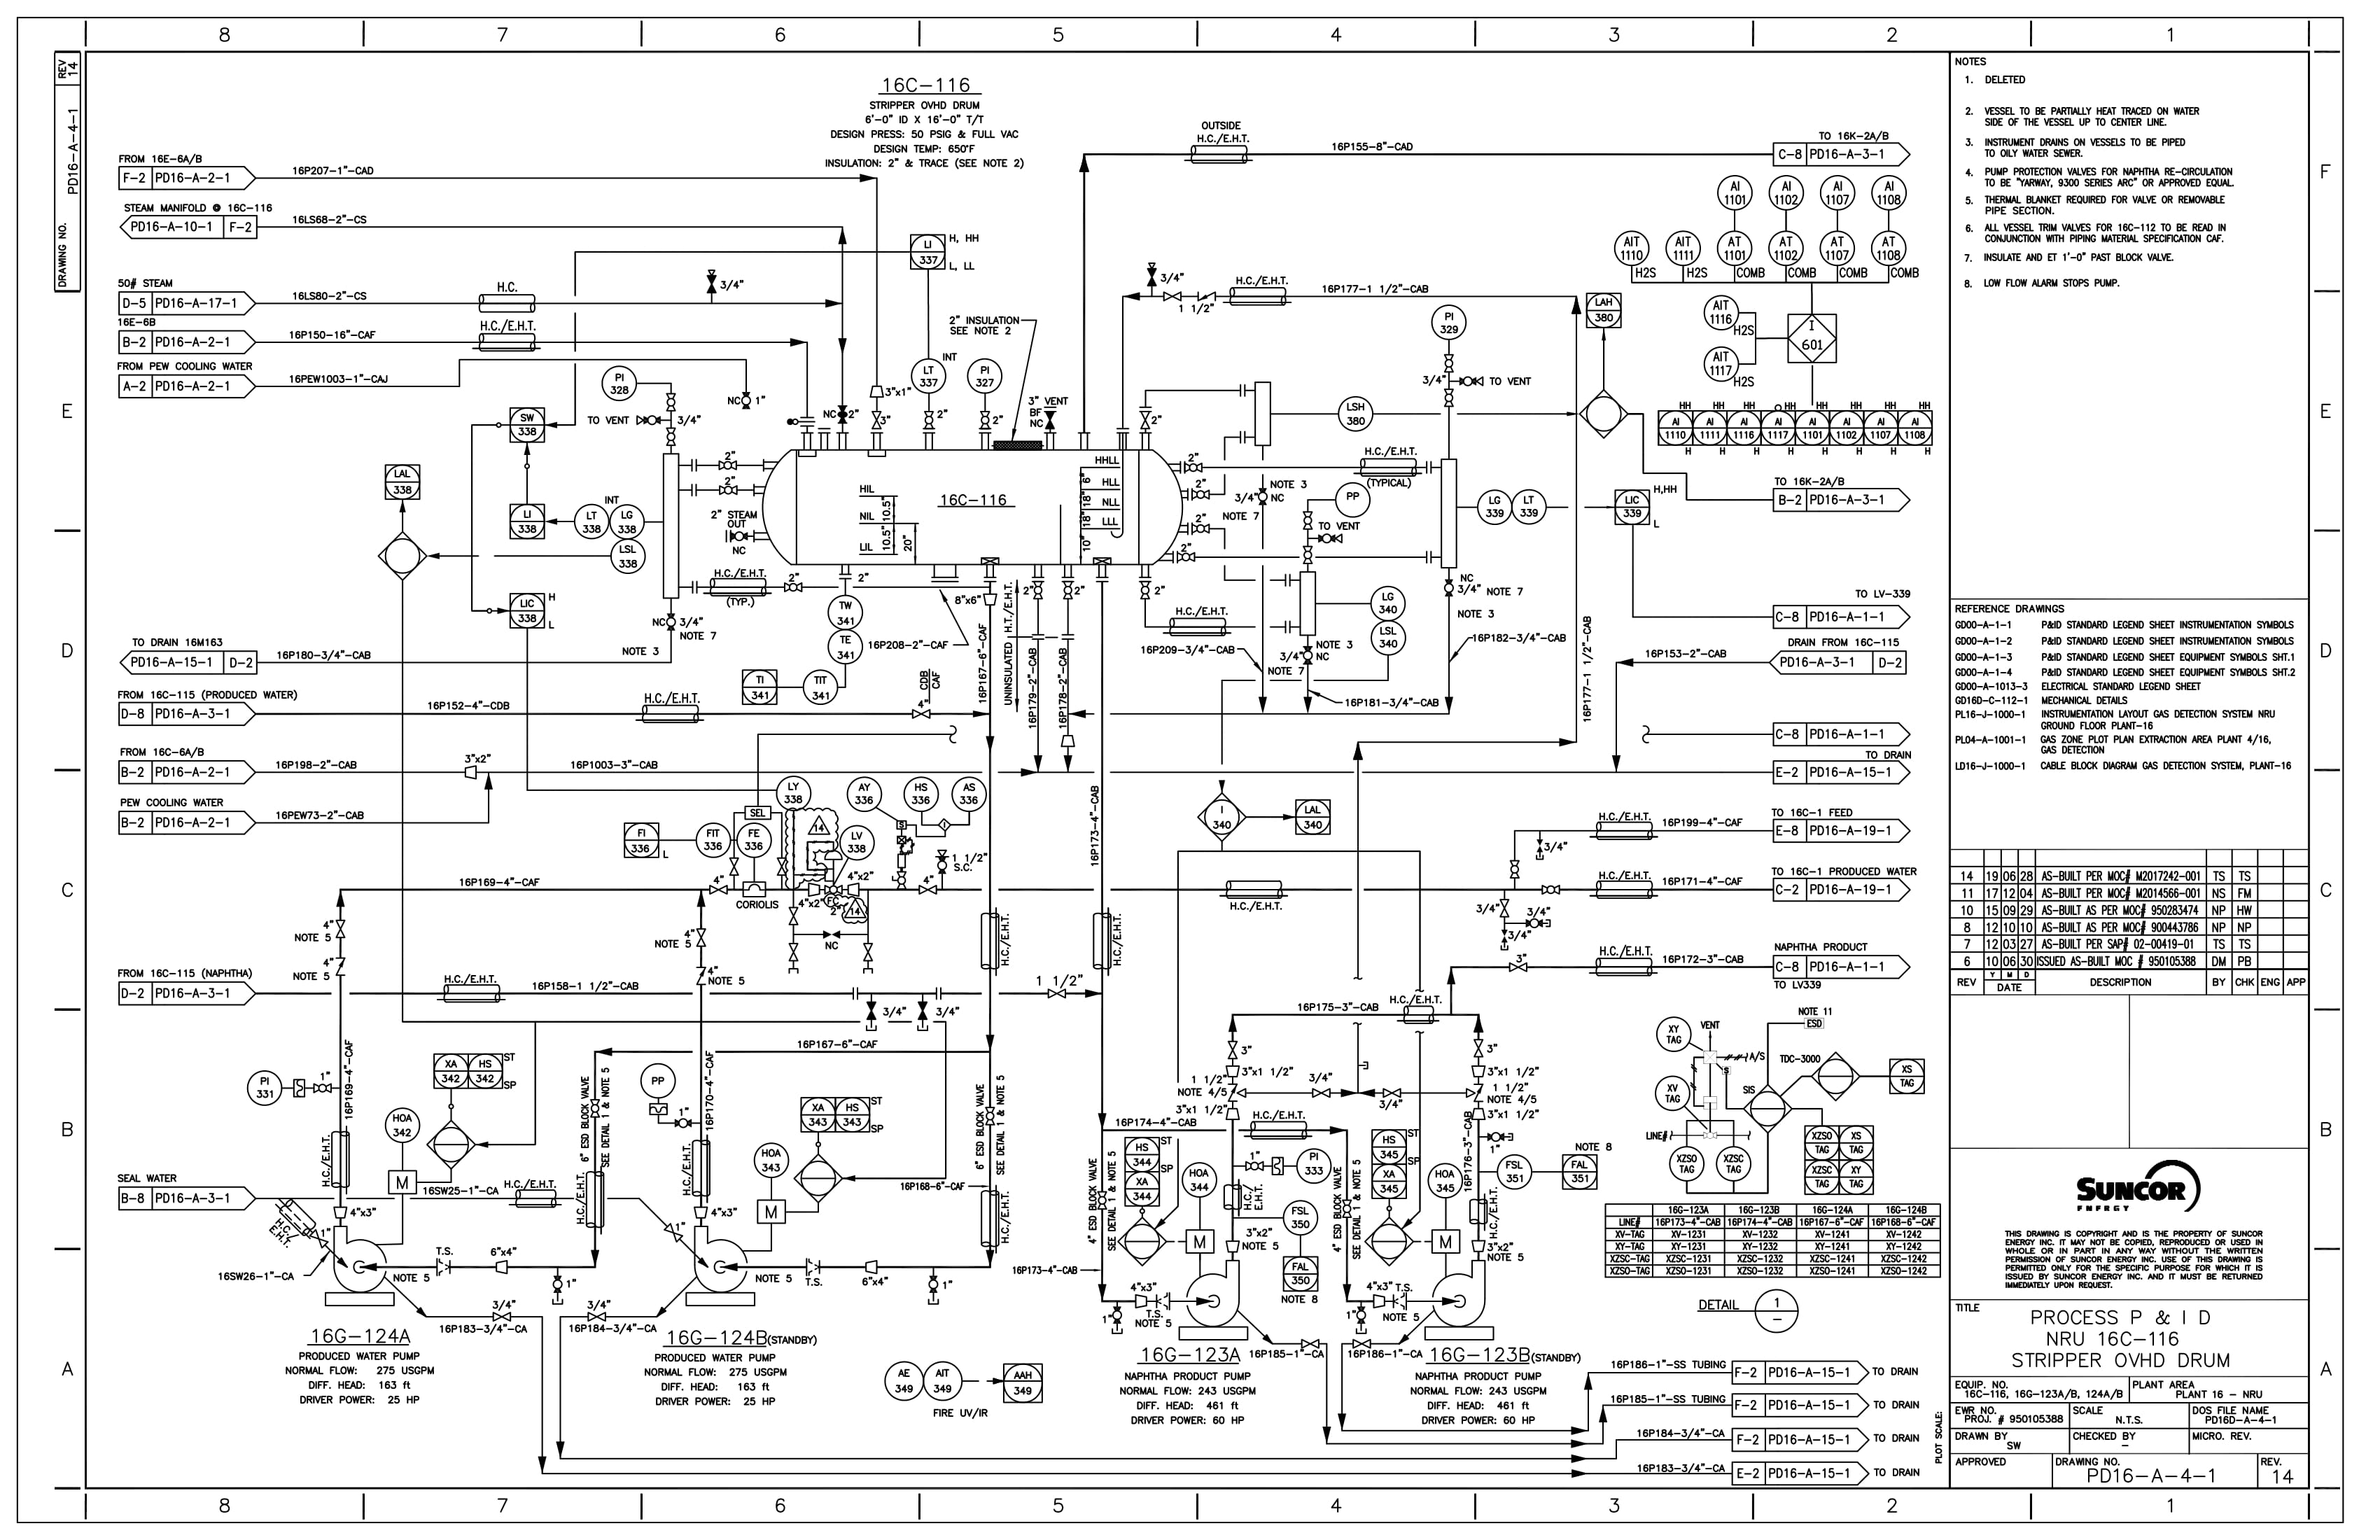Inline Instrument: (1414, 297, 1476, 345), (1474, 473, 1516, 541), (963, 354, 1015, 404), (1610, 224, 1664, 272), (1360, 619, 1422, 661), (883, 1351, 930, 1406), (1332, 390, 1383, 440), (1872, 220, 1919, 274), (380, 1100, 425, 1155), (1513, 482, 1554, 541), (798, 664, 848, 713), (1644, 1009, 1695, 1058), (822, 624, 874, 671), (749, 1138, 798, 1186), (926, 1351, 968, 1406), (1762, 170, 1811, 217), (1292, 1146, 1339, 1195), (902, 356, 952, 399), (1762, 231, 1814, 272), (1867, 172, 1919, 213), (1176, 1157, 1218, 1209), (598, 362, 645, 408), (1369, 577, 1414, 624), (572, 501, 618, 546), (1650, 1075, 1697, 1119), (1665, 1143, 1712, 1186), (609, 498, 657, 539), (1820, 170, 1863, 215), (1497, 1150, 1539, 1197), (899, 770, 942, 813), (1716, 225, 1756, 272), (1282, 1204, 1324, 1247), (1669, 231, 1709, 276), (848, 773, 888, 819), (1714, 1143, 1759, 1183), (696, 820, 736, 862), (1719, 177, 1759, 217), (954, 770, 989, 815)
Panel Instrument: (824, 1082, 892, 1143), (1553, 1143, 1618, 1197), (907, 222, 961, 283), (1367, 1112, 1422, 1169), (505, 577, 559, 636), (1280, 1249, 1331, 1311), (468, 1046, 526, 1100), (616, 817, 675, 864), (503, 402, 559, 451), (380, 456, 430, 508), (997, 1358, 1049, 1408), (1122, 1129, 1176, 1178), (1827, 399, 1873, 454), (505, 494, 552, 548), (1752, 402, 1802, 451), (1894, 402, 1941, 454), (732, 666, 788, 709), (1690, 402, 1735, 454), (1365, 1162, 1419, 1204), (1119, 1165, 1167, 1210), (1653, 404, 1698, 453), (794, 1093, 838, 1136), (434, 1051, 472, 1089)
